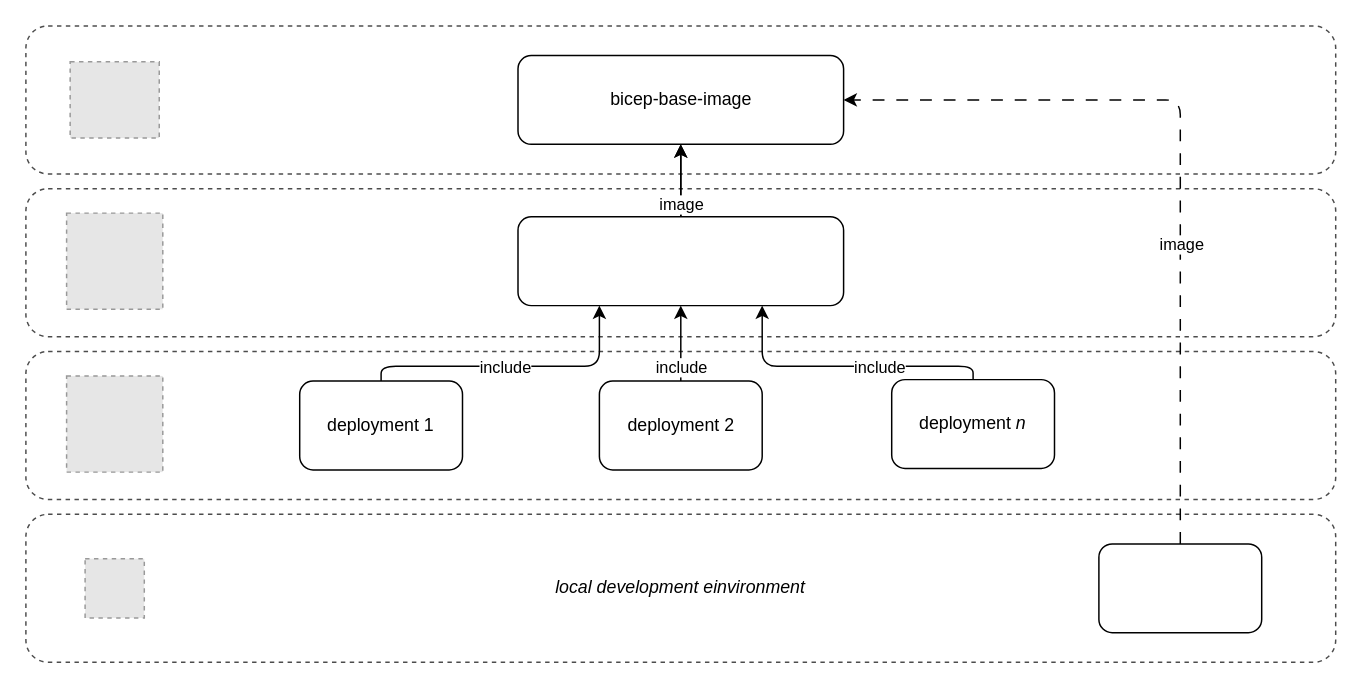
Some shapes in this 1362 by 688 pixel diagram are drawn without their labels. Grey dashed boxes stand in for pictures. Each missing label, with the centre of its shape:
bicep-stack: point (680, 260)
devcontainer: point (1179, 587)
